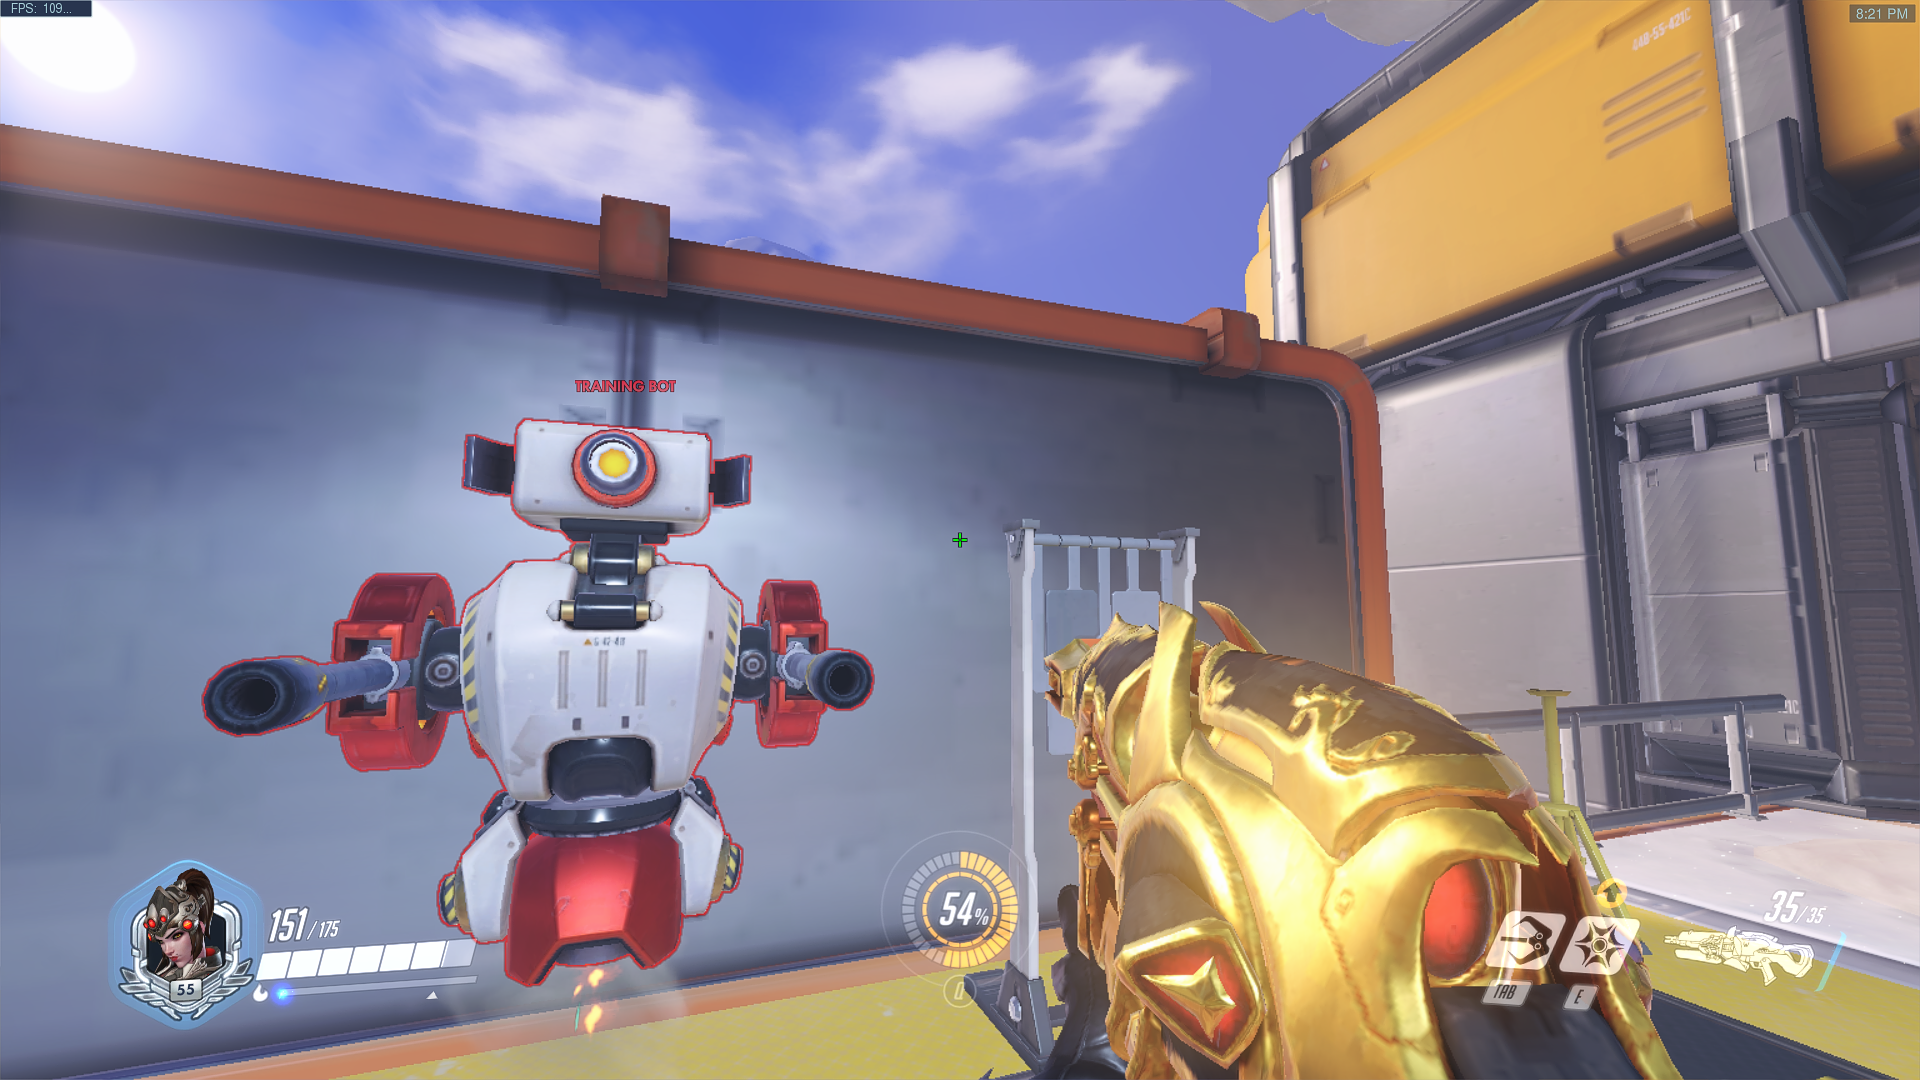head: (522, 419, 708, 535)
